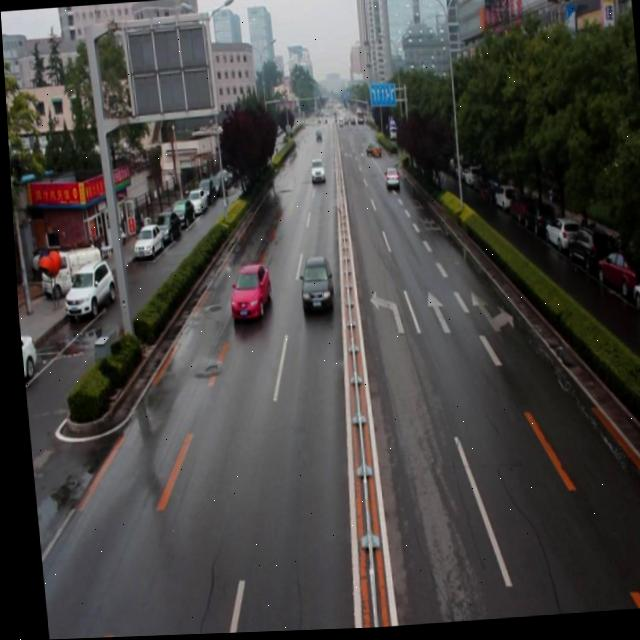car: (224, 261, 270, 324), (294, 256, 331, 313), (306, 159, 323, 187), (379, 167, 397, 193), (360, 140, 379, 162)
